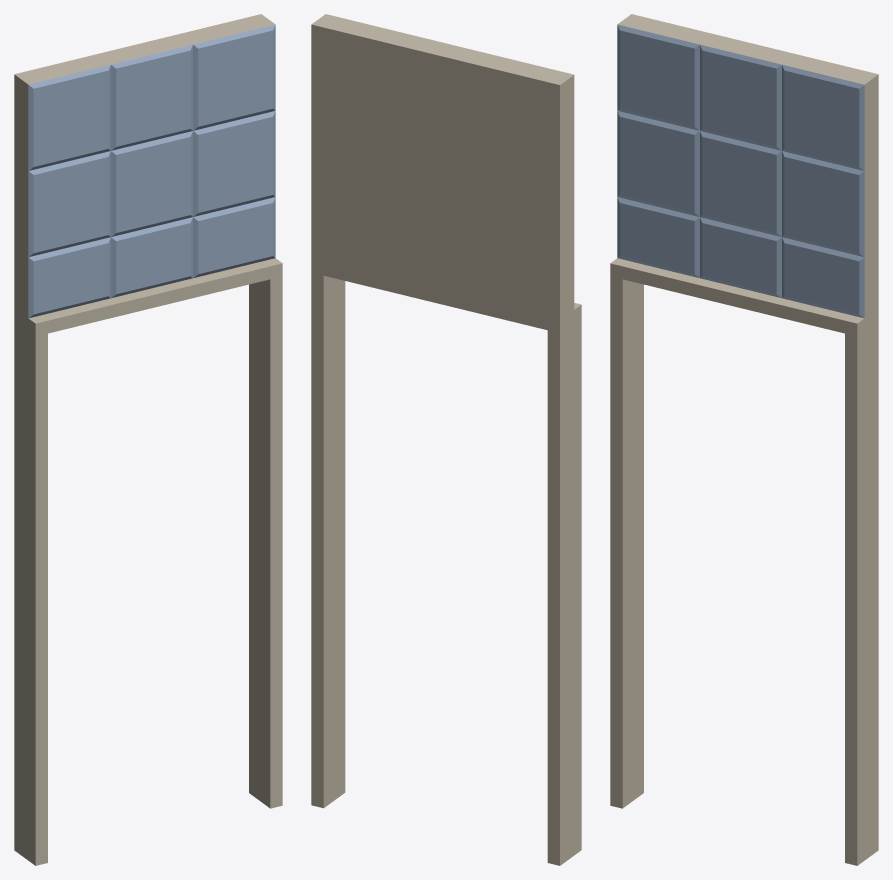
Rendered from Mesh_DoorHoleCeramic_D.fbx.
3 renders of one model, left to right at view 1: azimuth 30°, elevation 25°; view 2: azimuth 150°, elevation 25°; view 3: azimuth 330°, elevation 25°, orthographic.
Parts seen in each view (by area): view 1: Mesh_DoorHoleCeramic_D; view 2: Mesh_DoorHoleCeramic_D; view 3: Mesh_DoorHoleCeramic_D.
Boxes of the visible parts, x1,y1,x2,y2 form: Mesh_DoorHoleCeramic_D: [14, 14, 282, 865]; Mesh_DoorHoleCeramic_D: [311, 14, 581, 865]; Mesh_DoorHoleCeramic_D: [610, 14, 878, 865].
Bounding box in the file's own units: 1 × 3 × 0.15.
